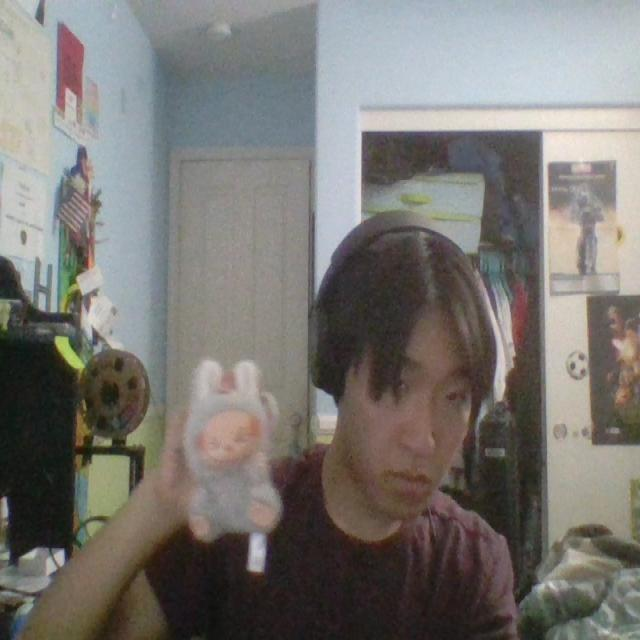labubu: (184, 359, 281, 540)
